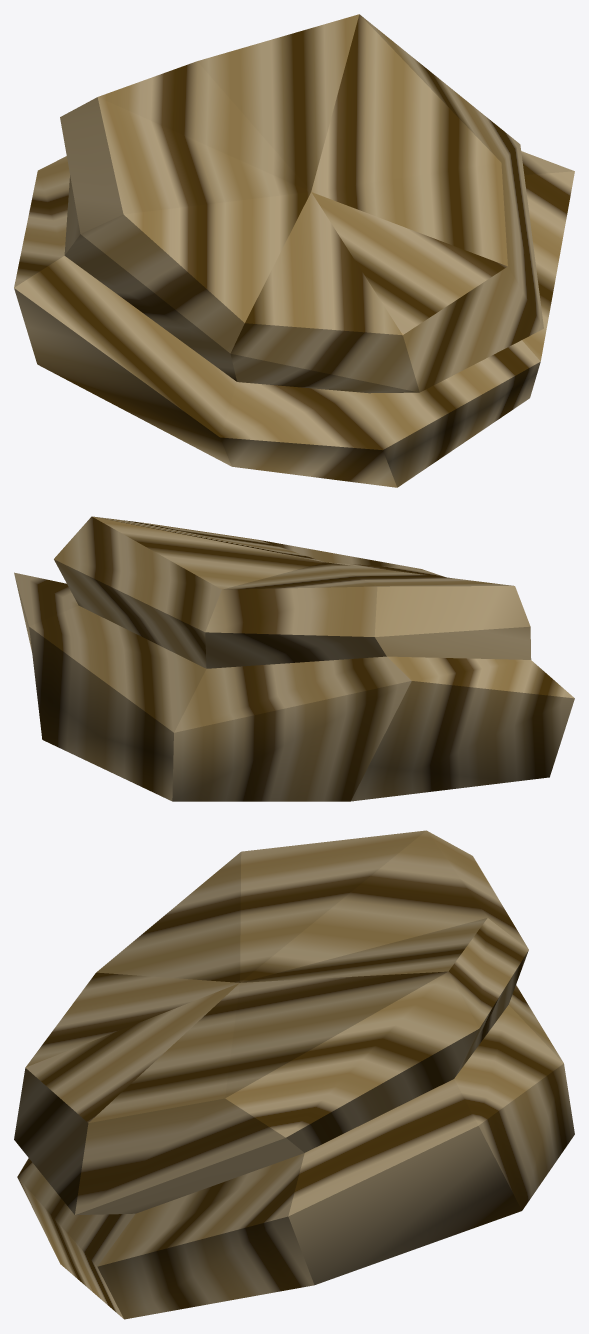
File: SM_Chr_Attach_Contractor_Scarf_01.fbx
3 views of the same model, one above another, from view 1: azimuth 30°, elevation 25°; view 2: azimuth 150°, elevation 25°; view 3: azimuth 270°, elevation 25° (orthographic). The views are drawn at different scales.
Visible parts, largest first — view 1: SM_Chr_Attach_Contractor_Scarf_01; view 2: SM_Chr_Attach_Contractor_Scarf_01; view 3: SM_Chr_Attach_Contractor_Scarf_01.
Boxes of the visible parts, box(x1,y1,x2,y2) form: SM_Chr_Attach_Contractor_Scarf_01: box(14, 14, 574, 487); SM_Chr_Attach_Contractor_Scarf_01: box(14, 516, 574, 801); SM_Chr_Attach_Contractor_Scarf_01: box(14, 830, 574, 1319).
Bounding box in the file's own units: 32.35 × 17.69 × 24.58.
